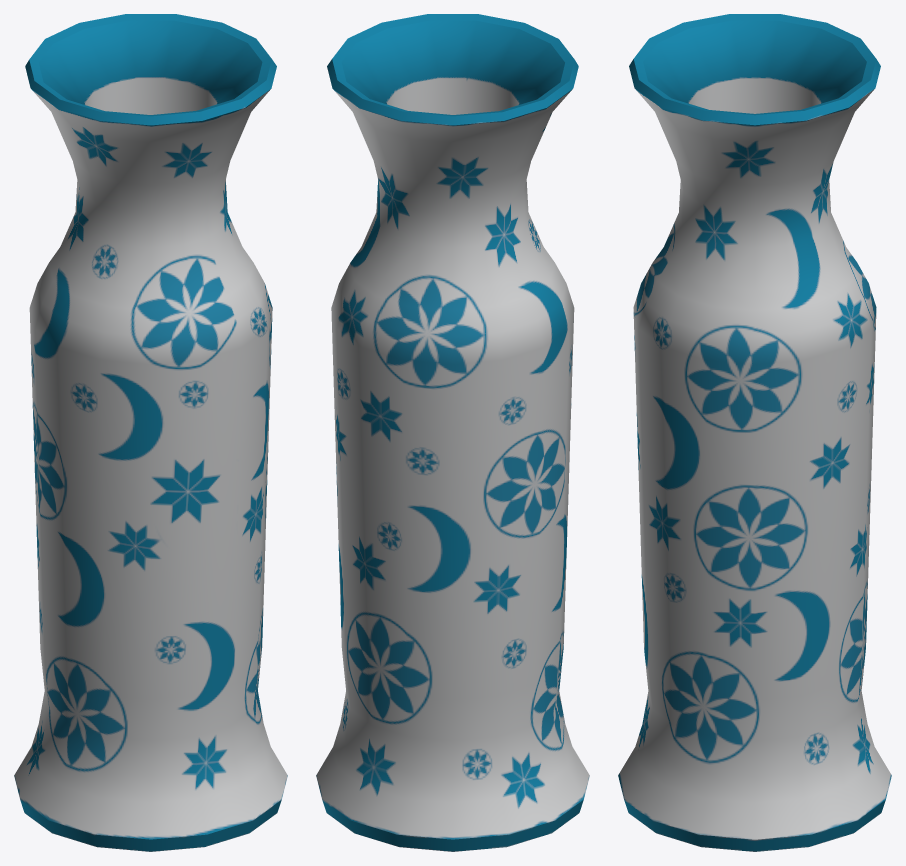
File: Big Vase.fbx
The picture shows the model from 3 angles, left to right: view 1: azimuth 30°, elevation 25°; view 2: azimuth 150°, elevation 25°; view 3: azimuth 270°, elevation 25°; orthographic projection.
Visible parts, largest first — view 1: Big_Vase; view 2: Big_Vase; view 3: Big_Vase.
Part boxes in pixels (bbox=[...]): Big_Vase: bbox=[14, 14, 287, 851]; Big_Vase: bbox=[316, 14, 589, 851]; Big_Vase: bbox=[618, 14, 891, 851].
Size of the model in its own units: 0.0215 by 0.0637 by 0.0216.
1 material, 1 textured.
